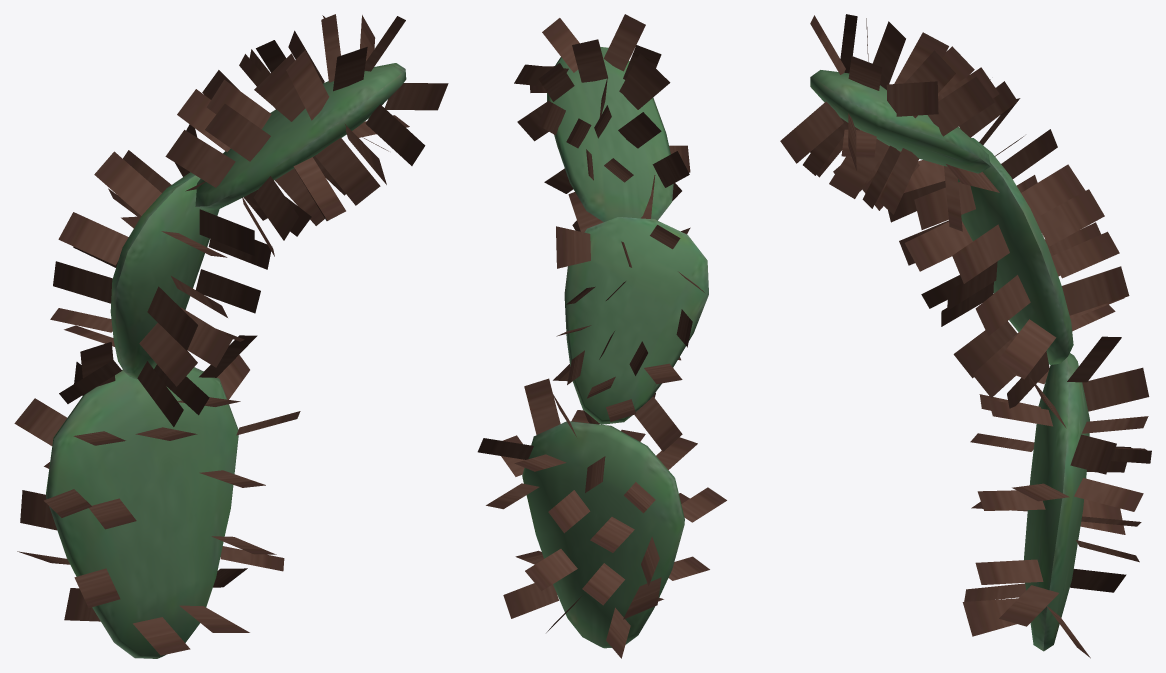
File: Canyon_Cactus_Flat_2.glb
3 renders of one model, left to right at view 1: azimuth 30°, elevation 25°; view 2: azimuth 150°, elevation 25°; view 3: azimuth 270°, elevation 25°, orthographic. The views are drawn at different scales.
Parts seen in each view (by area): view 1: Canyon_Cactus_Flat_2_0; view 2: Canyon_Cactus_Flat_2_0; view 3: Canyon_Cactus_Flat_2_0.
Part boxes in pixels (box(x1,y1,x2,y2)): Canyon_Cactus_Flat_2_0: box(14, 14, 448, 658); Canyon_Cactus_Flat_2_0: box(477, 14, 726, 658); Canyon_Cactus_Flat_2_0: box(780, 14, 1151, 658).
Bounding box in the file's own units: 0.8235 × 1.68 × 0.9034.
Materials: 1 (1 with a texture image).
